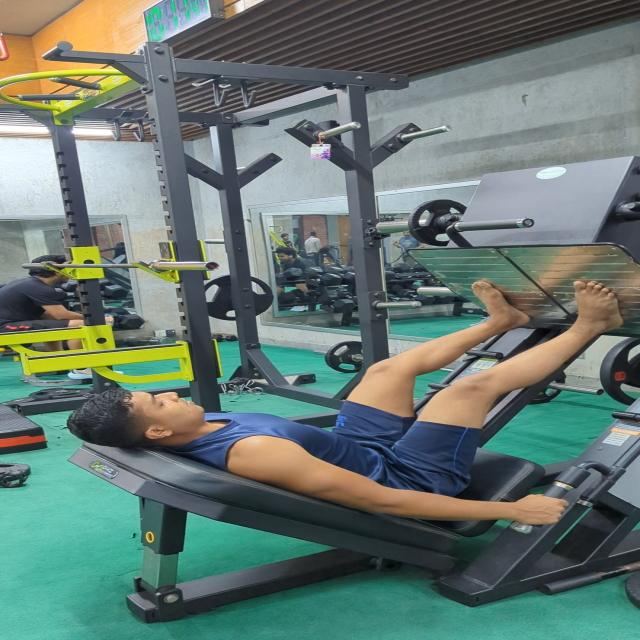Normal_LegPress: (56, 277, 634, 533)
